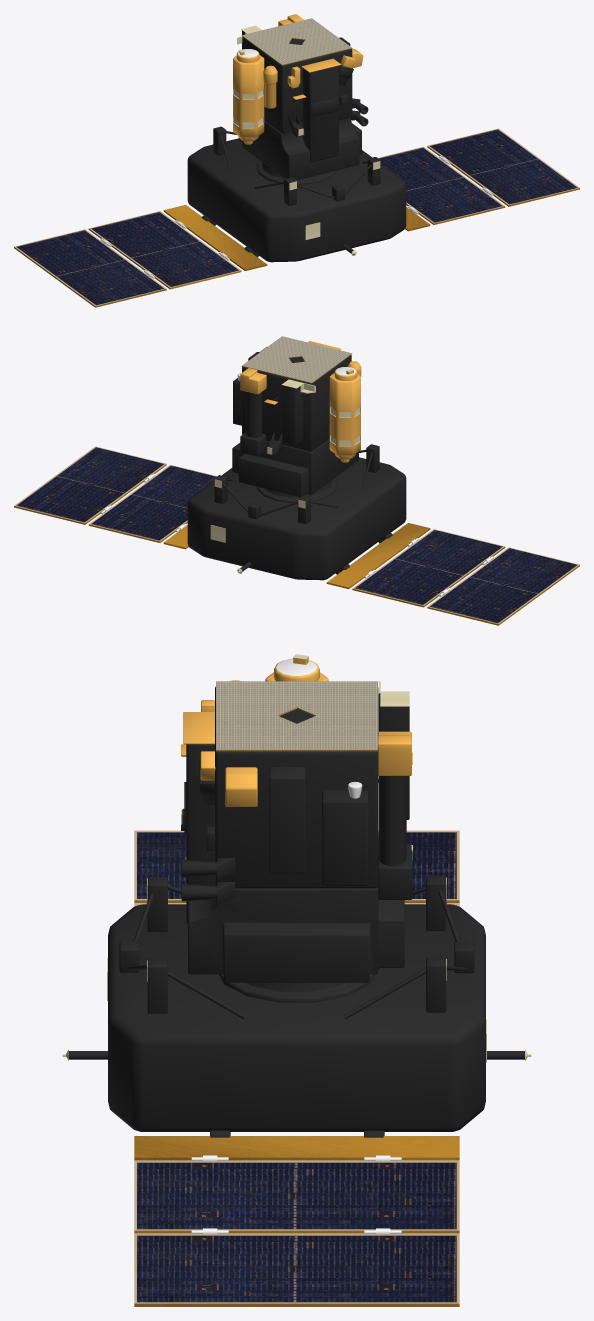
File: soho.glb
The picture shows the model from 3 angles, top to bottom: view 1: azimuth 30°, elevation 25°; view 2: azimuth 150°, elevation 25°; view 3: azimuth 270°, elevation 25°; orthographic projection. The views are drawn at different scales.
Parts seen in each view (by area): view 1: BUS_black_krinkle, solar_cells, top_thing, foil_cylinder, orange_array_thing, gold_foil, brass; view 2: BUS_black_krinkle, solar_cells, top_thing, foil_cylinder, orange_array_thing, gold_foil, brass; view 3: BUS_black_krinkle, solar_cells, top_thing, orange_array_thing, gold_foil, foil_cylinder, brass.
Boxes of the visible parts, x1,y1,x2,y2 form: BUS_black_krinkle: [187, 30, 406, 262]; solar_cells: [14, 128, 579, 307]; top_thing: [241, 18, 352, 65]; foil_cylinder: [233, 49, 264, 144]; orange_array_thing: [163, 205, 430, 270]; gold_foil: [239, 14, 363, 108]; brass: [237, 25, 380, 255]; BUS_black_krinkle: [187, 352, 406, 580]; solar_cells: [14, 446, 579, 625]; top_thing: [241, 336, 352, 383]; foil_cylinder: [329, 367, 360, 462]; orange_array_thing: [163, 523, 430, 589]; gold_foil: [240, 341, 361, 404]; brass: [210, 369, 353, 573]; BUS_black_krinkle: [69, 686, 524, 1131]; solar_cells: [134, 830, 459, 1306]; top_thing: [216, 681, 377, 751]; orange_array_thing: [134, 1136, 459, 1160]; gold_foil: [181, 657, 412, 806]; foil_cylinder: [265, 658, 328, 681]; brass: [62, 654, 531, 1062].
Size of the model in its own units: 9.43 by 3.78 by 3.95.
Materials: 7 (4 with a texture image).
